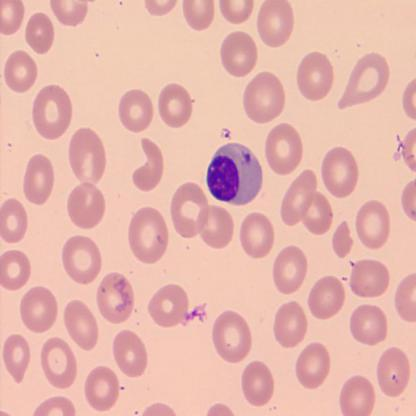NRC: (206, 141, 264, 209)
